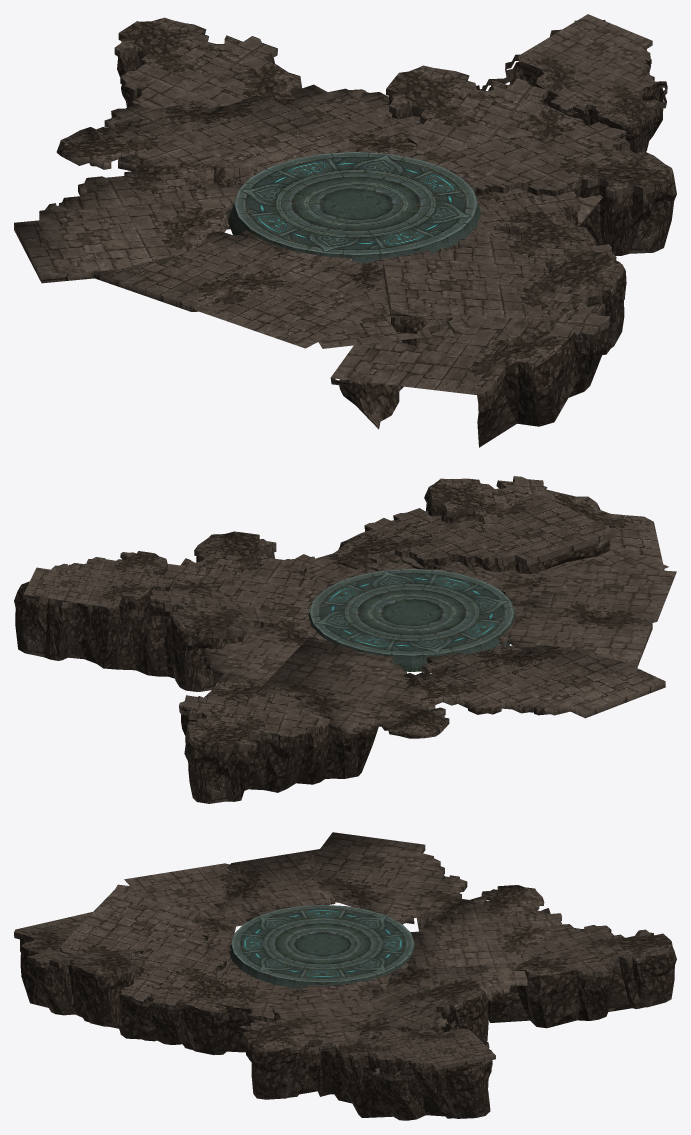
The model's file is Login_floor_01.FBX.
The picture shows the model from 3 angles, top to bottom: view 1: azimuth 30°, elevation 25°; view 2: azimuth 150°, elevation 25°; view 3: azimuth 270°, elevation 25°; orthographic projection. The views are drawn at different scales.
Parts seen in each view (by area): view 1: Login_floor_01; view 2: Login_floor_01; view 3: Login_floor_01.
Boxes of the visible parts, x1,y1,x2,y2 form: Login_floor_01: [14, 14, 676, 447]; Login_floor_01: [14, 476, 676, 803]; Login_floor_01: [14, 832, 676, 1120].
Size of the model in its own units: 61.77 by 10.5 by 69.31.
